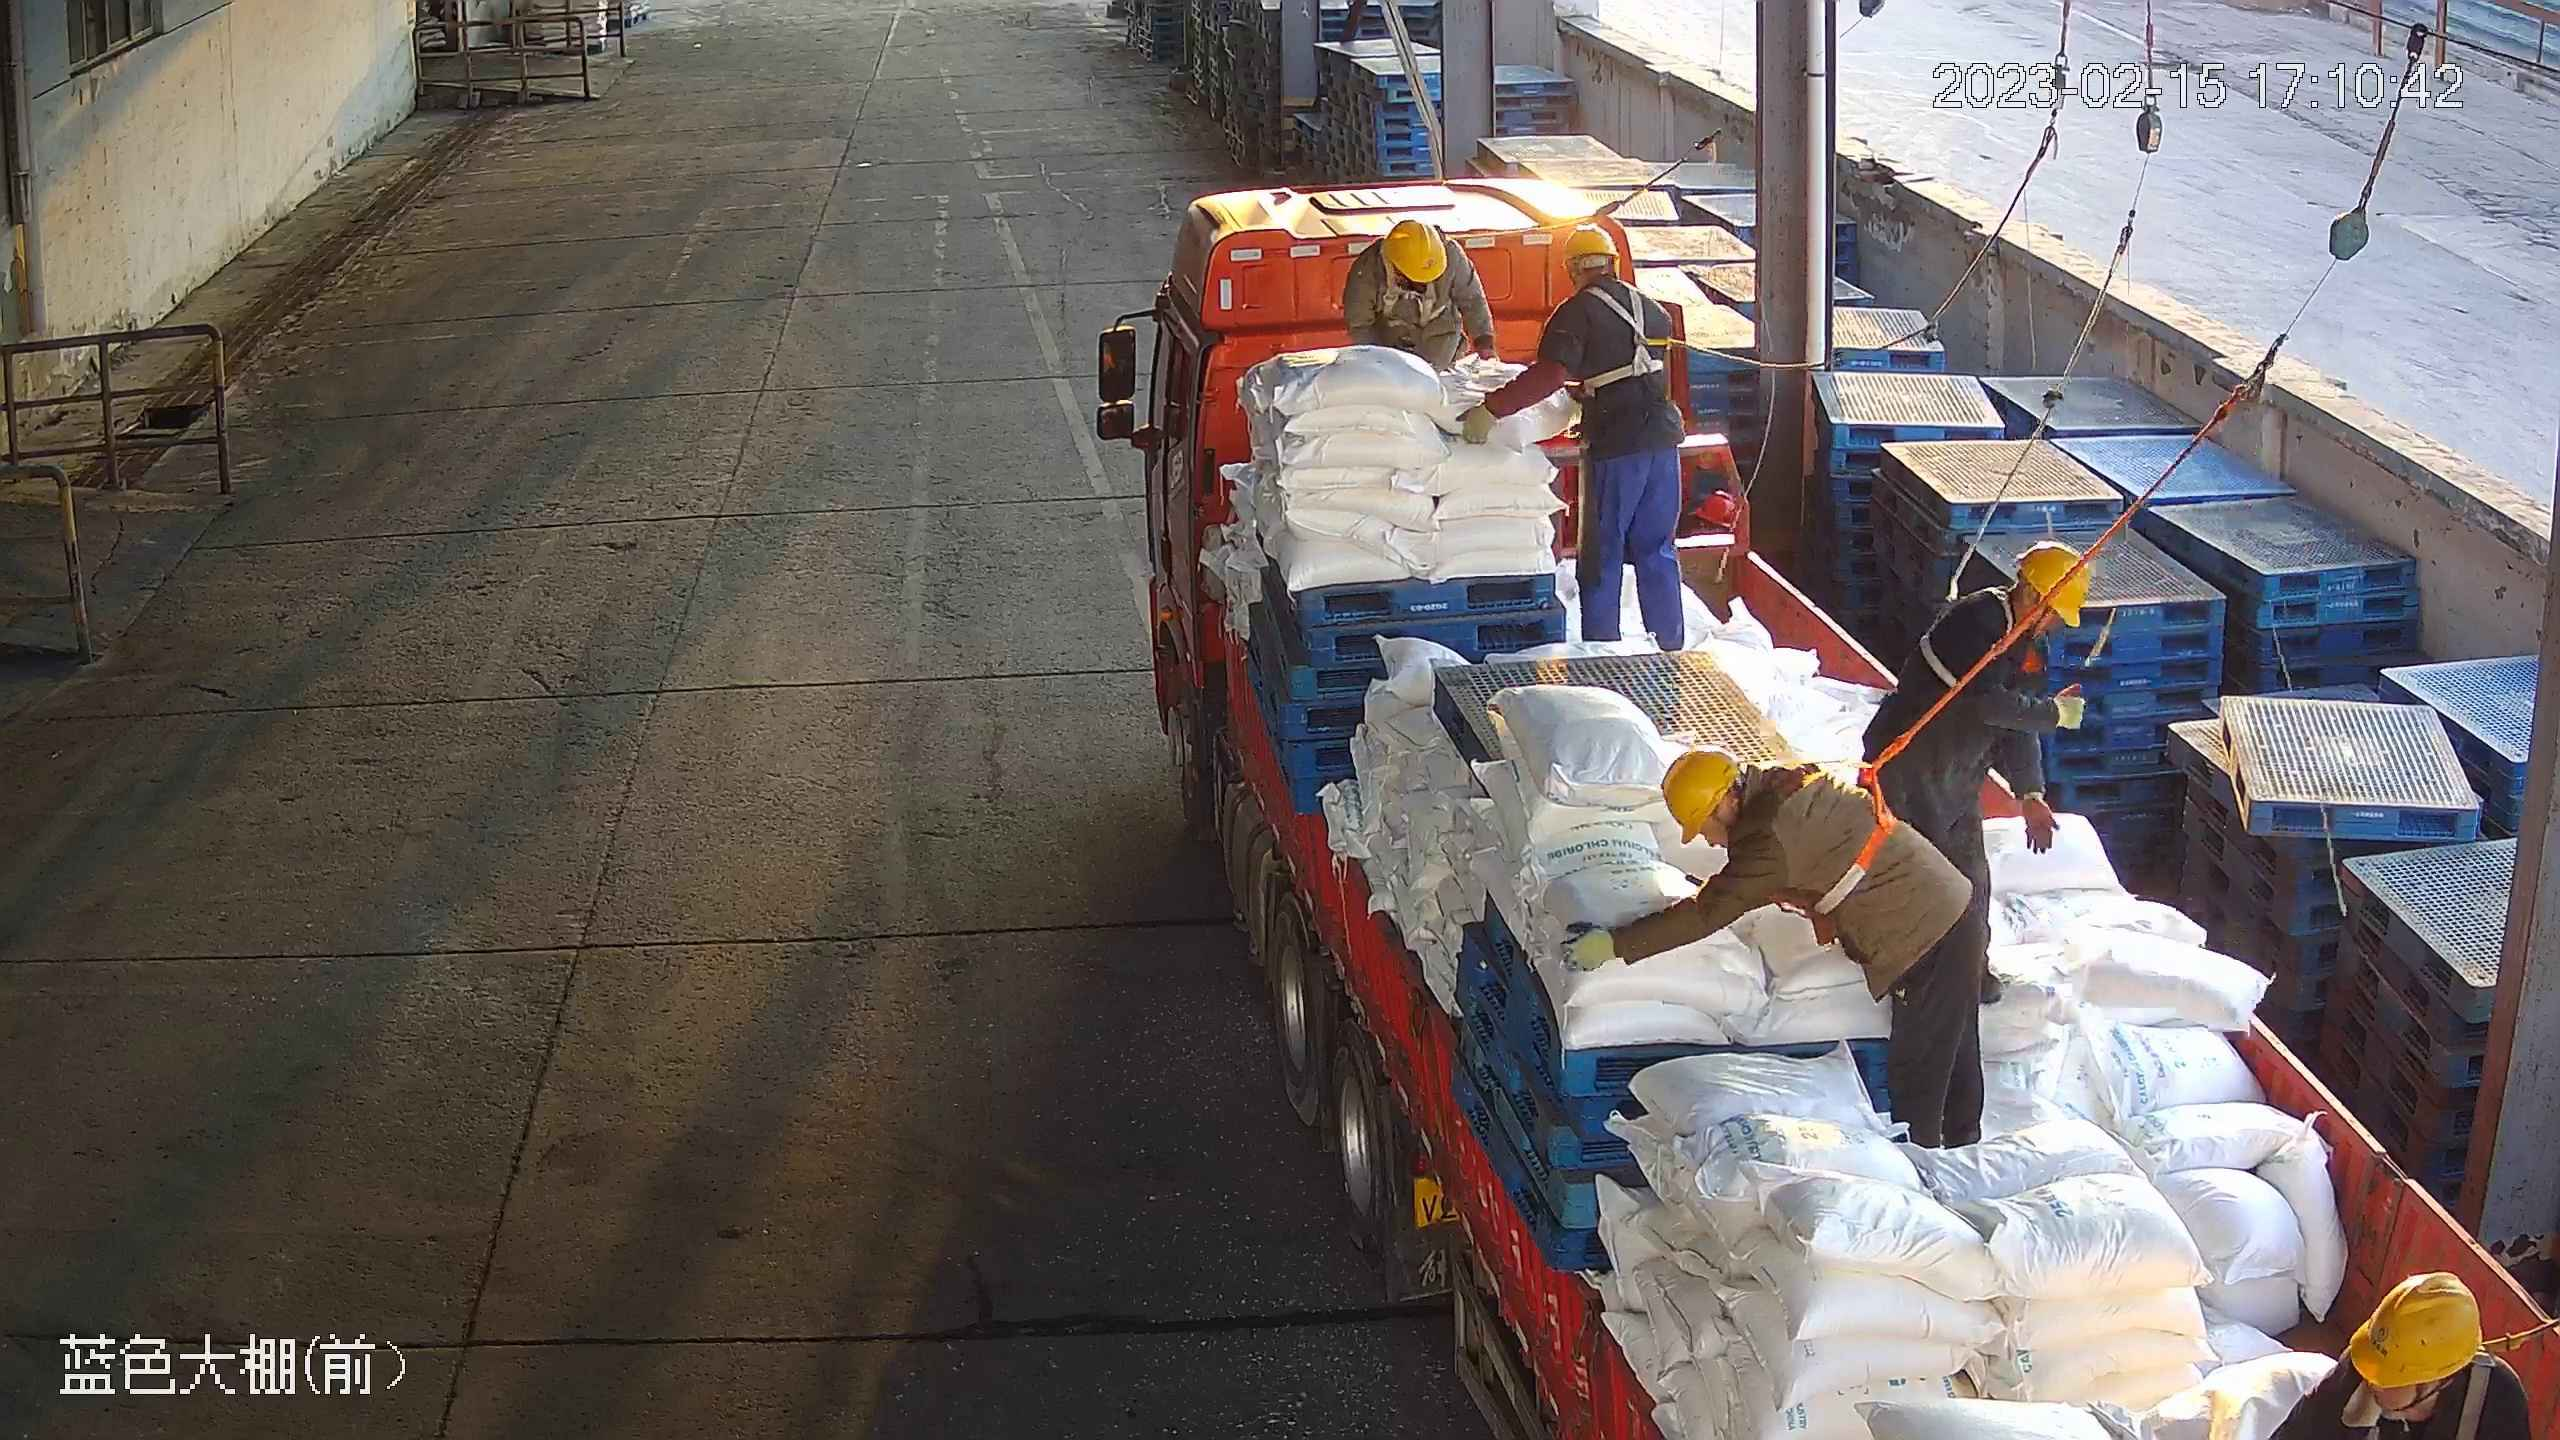belt: (1772, 745, 1902, 927), (1922, 573, 2019, 695), (2350, 1366, 2509, 1440), (1574, 275, 1676, 387), (1381, 258, 1445, 332)
head: (2262, 1269, 2531, 1440), (1923, 545, 2082, 707), (1662, 749, 1829, 895), (1543, 226, 1669, 352), (1353, 220, 1486, 313)
helmet: (2350, 1275, 2483, 1380), (1662, 746, 1736, 844), (2019, 544, 2086, 630), (1379, 218, 1447, 283), (1560, 223, 1617, 268)
people: (1565, 752, 1990, 1145), (1863, 542, 2086, 1008), (1457, 223, 1686, 651), (1341, 219, 1500, 371)
truck: (1086, 175, 2560, 1440)
